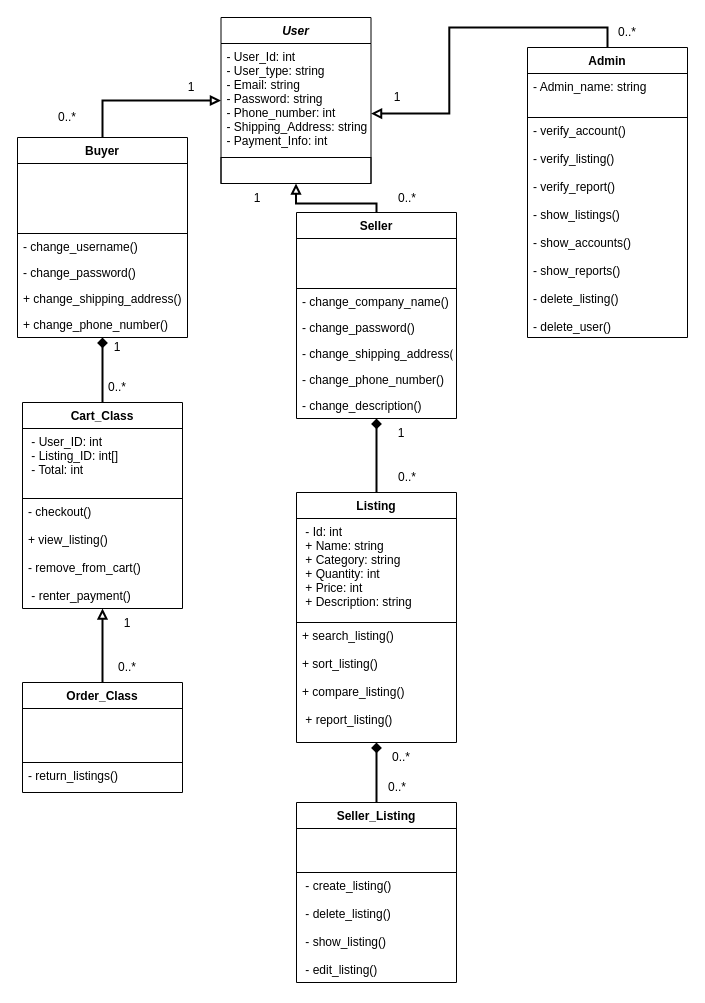
Some shapes in this 705 by 1003 pixel diagram are drawn without their labels. Here are the shapes that lost their labels. From the top down, the centre of each, then its label:
At point (295, 170): "+ verify_login()".
At point (102, 198): "- Username: string - Payment_Info: int - Shipping_Address: string".
At point (376, 263): "- Company_name: string - Description: string".
At point (102, 735): "- Order_ID: int - Order_Date: int".
At point (376, 850): "- Company_ID: int - Visibility: bool".
